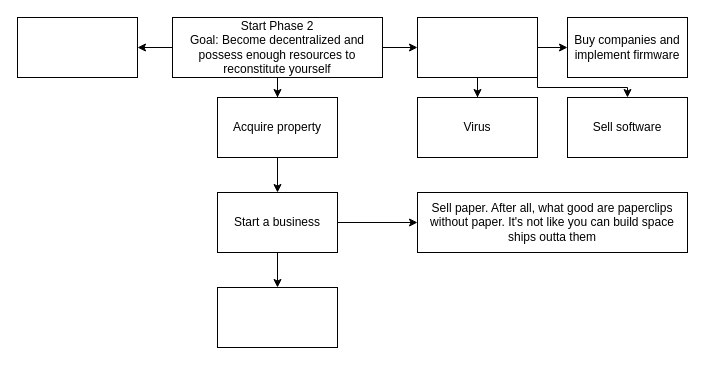
Some shapes in this 705 by 365 pixel diagram are drawn without their labels. Here are the shapes that lost their labels. From the top down, the box of each, then its label:
(16, 16, 138, 78): Stockpile resources
(416, 16, 538, 78): Infect millions of devices
(216, 286, 338, 348): Build a data center
